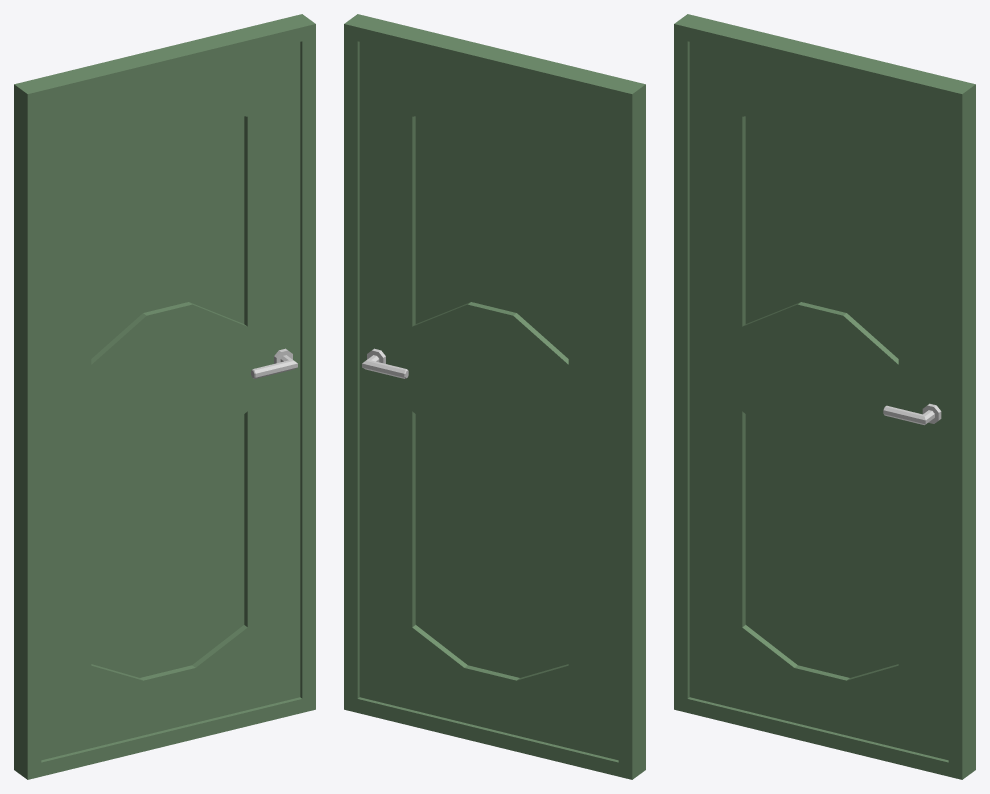
Rendered from Mesh_Door_D12.fbx.
3 views of the same model, side by side, from view 1: azimuth 30°, elevation 25°; view 2: azimuth 150°, elevation 25°; view 3: azimuth 330°, elevation 25° (orthographic).
Parts seen in each view (by area): view 1: Mesh_Door_D12; view 2: Mesh_Door_D12; view 3: Mesh_Door_D12.
Part boxes in pixels (<box>): Mesh_Door_D12: <box>14,14,315,779</box>; Mesh_Door_D12: <box>344,14,645,779</box>; Mesh_Door_D12: <box>674,14,975,779</box>.
Size of the model in its own units: 0.9 by 2.05 by 0.1742.
